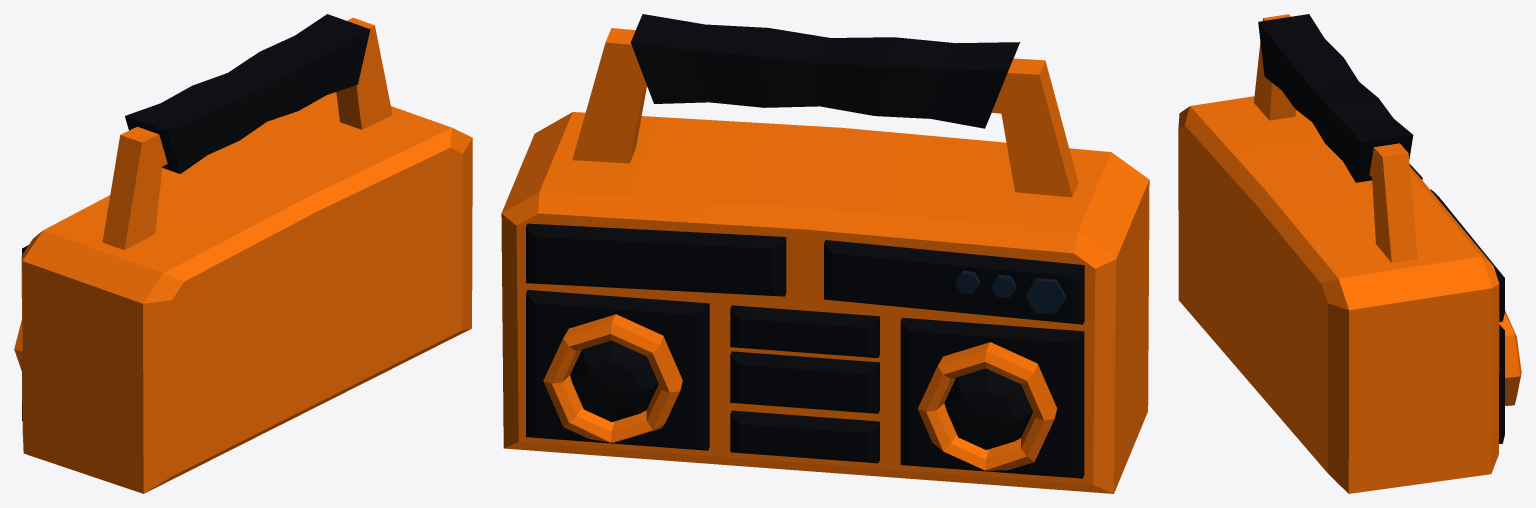
Rendered from boombox.obj.
The picture shows the model from 3 angles, left to right: view 1: azimuth 30°, elevation 25°; view 2: azimuth 150°, elevation 25°; view 3: azimuth 270°, elevation 25°; orthographic projection. The views are drawn at different scales.
Parts seen in each view (by area): view 1: cube3, cube4; view 2: cube3, cube5, cube4, cube, cube2, cylinders; view 3: cube3, cube4, cube5, cube.
Boxes of the visible parts, <box> form: cube3: <box>21,17,472,493</box>; cube4: <box>125,14,370,173</box>; cube3: <box>501,28,1149,493</box>; cube5: <box>526,223,1084,478</box>; cube4: <box>630,14,1019,128</box>; cube: <box>543,314,1056,470</box>; cube2: <box>570,340,1032,449</box>; cylinders: <box>955,270,1066,314</box>; cube3: <box>1178,14,1499,493</box>; cube4: <box>1258,14,1413,182</box>; cube5: <box>1409,164,1504,443</box>; cube: <box>1499,310,1521,405</box>.
Bounding box in the file's own units: 12.14 × 7.99 × 8.05.
